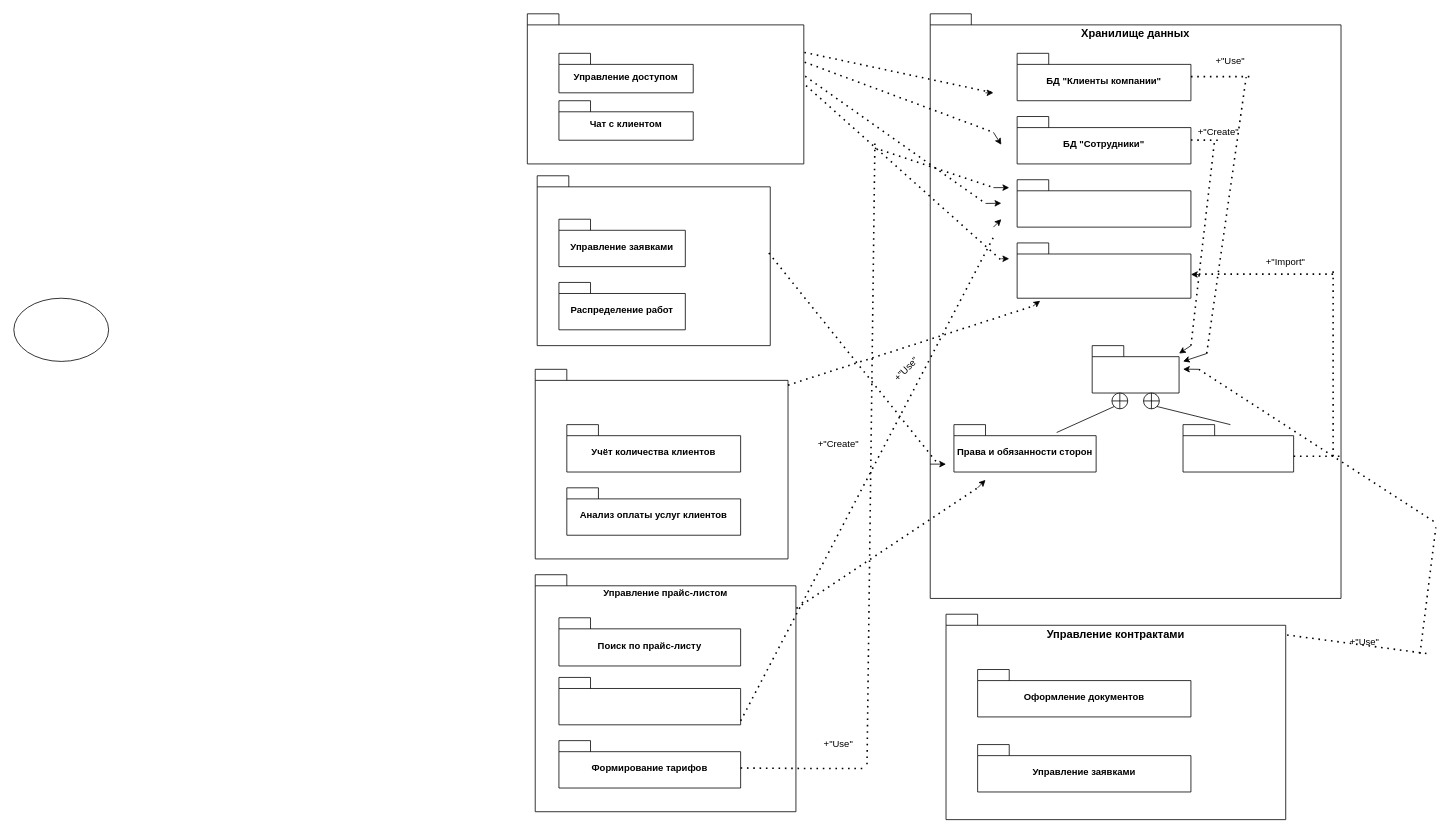
Image size: 1451x833. Some labels were removed from this diagram. Each missing label, with the box of its shape:
Администрирование: (527, 13, 804, 164)
БД "История оказания услуг клиентам": (1016, 242, 1191, 298)
БД "Классификатор услуг ": (1016, 179, 1191, 227)
Добавление услуг: (558, 677, 741, 725)
Контра кты: (1091, 345, 1179, 393)
Подготовка аналитической отчётности: (534, 369, 788, 559)
Предмет договора: (1182, 424, 1294, 472)
Управление работами: (536, 175, 770, 346)
